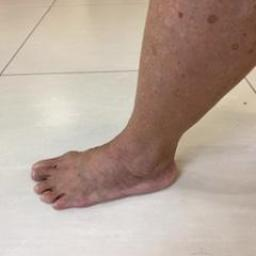Lateral View -Left Foot-: (14, 111, 203, 220)
